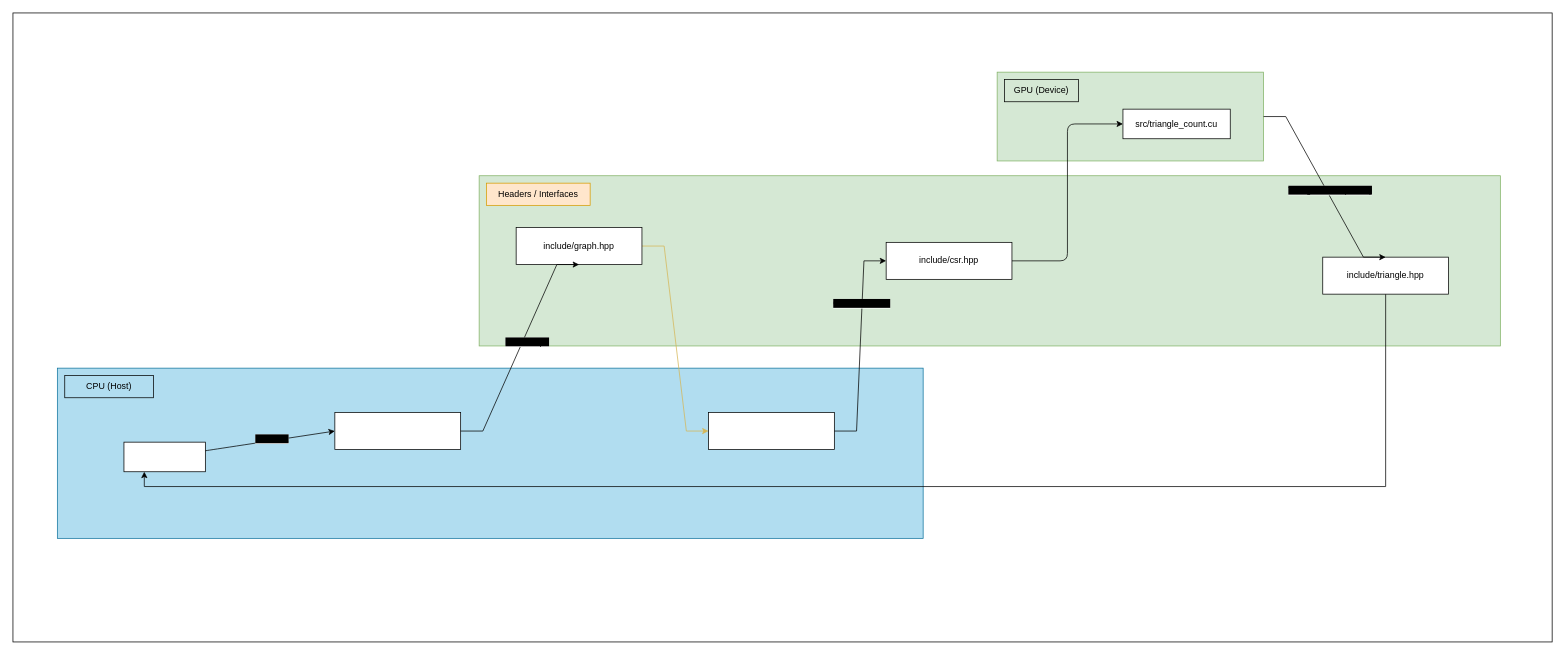
The diagram is 1565 pixels wide and 655 high, and some of its shapes have lost their labels. The shapes that lost their labels are listed below. From the top down, each one's box as (x1, y1, x2, y2) in pixels, then its label:
(334, 412, 461, 450): src/graph_loader.cpp
(708, 412, 834, 450): src/csr_converter.cpp
(123, 441, 205, 472): src/main.cpp
